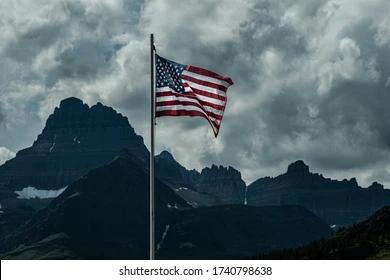America flag: (151, 54, 234, 139)
